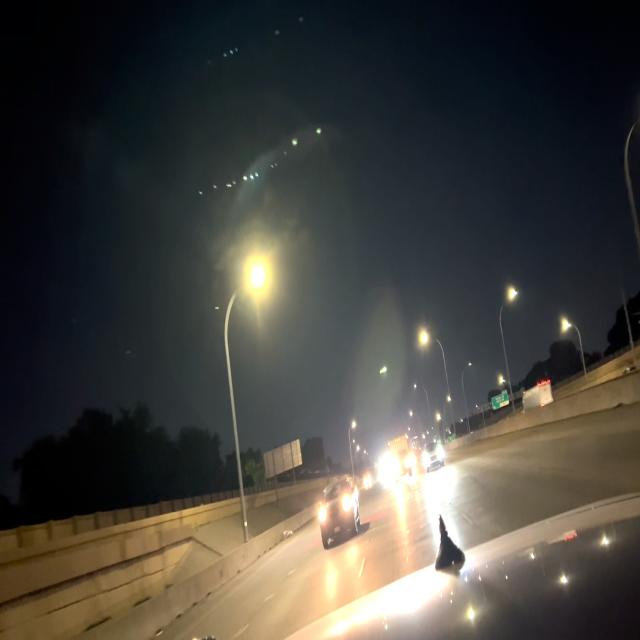back-of-sign: (262, 439, 304, 483)
